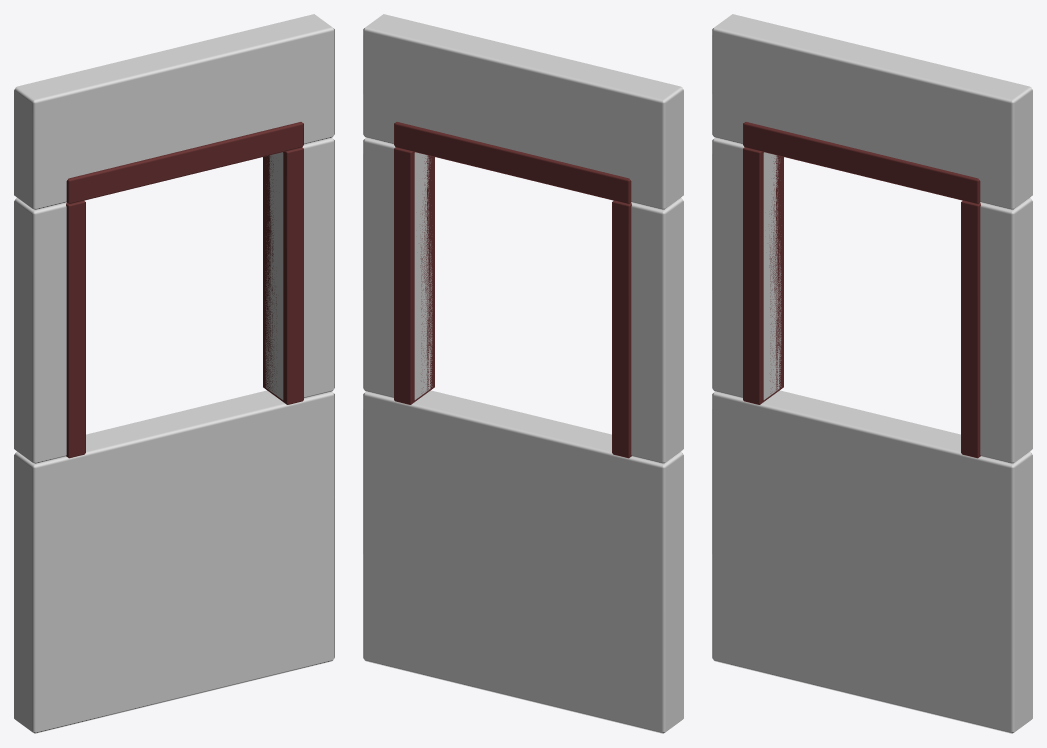
File: living-cave-window-frame.c3b16b78.glb
The picture shows the model from 3 angles, left to right: view 1: azimuth 30°, elevation 25°; view 2: azimuth 150°, elevation 25°; view 3: azimuth 330°, elevation 25°; orthographic projection.
Visible parts, largest first — view 1: body; view 2: body; view 3: body.
Part boxes in pixels (box(x1,y1,x2,y2)): body: box(14, 14, 334, 733); body: box(363, 14, 683, 733); body: box(712, 14, 1032, 733).
Size of the model in its own units: 1 by 2 by 0.14.
